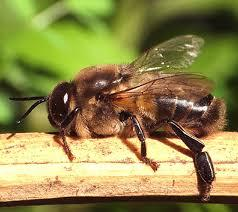Apis-mellifera-scutellata: (13, 35, 225, 201)
